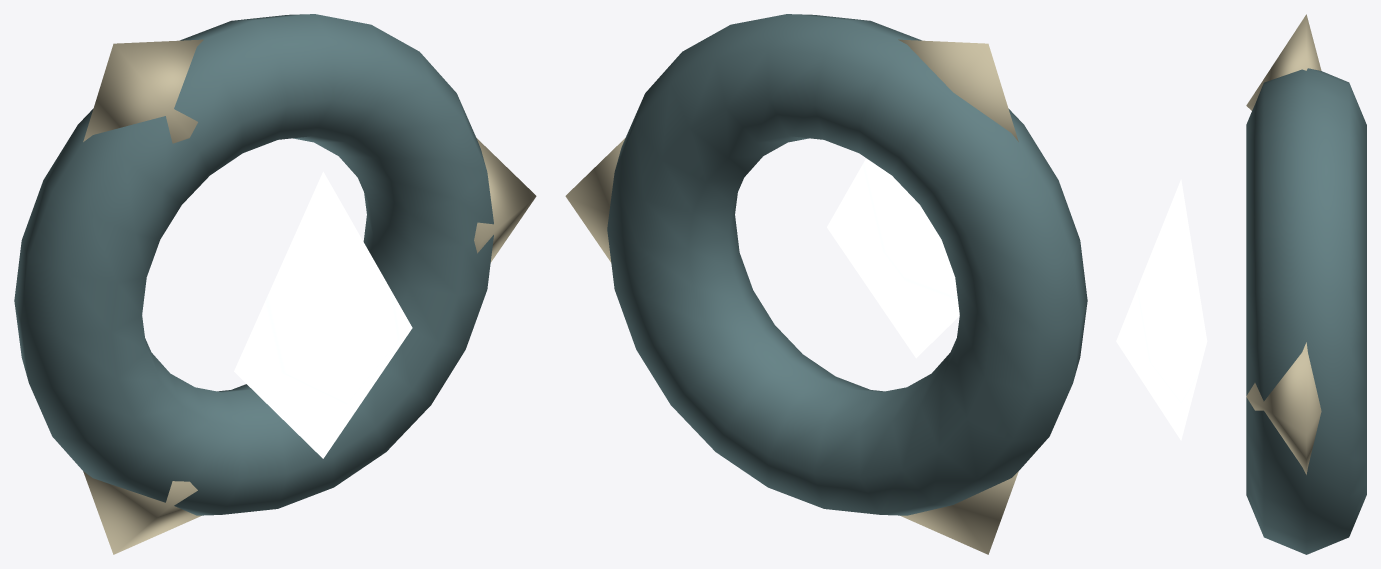
Rendered from boss_gale_nomad_accessory_1.glb.
3 renders of one model, left to right at view 1: azimuth 30°, elevation 25°; view 2: azimuth 150°, elevation 25°; view 3: azimuth 270°, elevation 25°, orthographic. The views are drawn at different scales.
Visible parts, largest first — view 1: Boss_gale_nomad_1, Boss_gale_nomad_2, Boss_gale_nomad_0; view 2: Boss_gale_nomad_1, Boss_gale_nomad_2, Boss_gale_nomad_0; view 3: Boss_gale_nomad_1, Boss_gale_nomad_2, Boss_gale_nomad_0.
Boxes of the visible parts, x1,y1,x2,y2 form: Boss_gale_nomad_1: [14, 14, 493, 515]; Boss_gale_nomad_2: [234, 171, 412, 458]; Boss_gale_nomad_0: [83, 39, 536, 554]; Boss_gale_nomad_1: [607, 14, 1087, 515]; Boss_gale_nomad_2: [827, 158, 959, 358]; Boss_gale_nomad_0: [565, 39, 1018, 554]; Boss_gale_nomad_1: [1246, 68, 1366, 554]; Boss_gale_nomad_2: [1116, 179, 1207, 440]; Boss_gale_nomad_0: [1246, 14, 1321, 474].
Bounding box in the file's own units: 0.117 × 0.1109 × 0.054.
